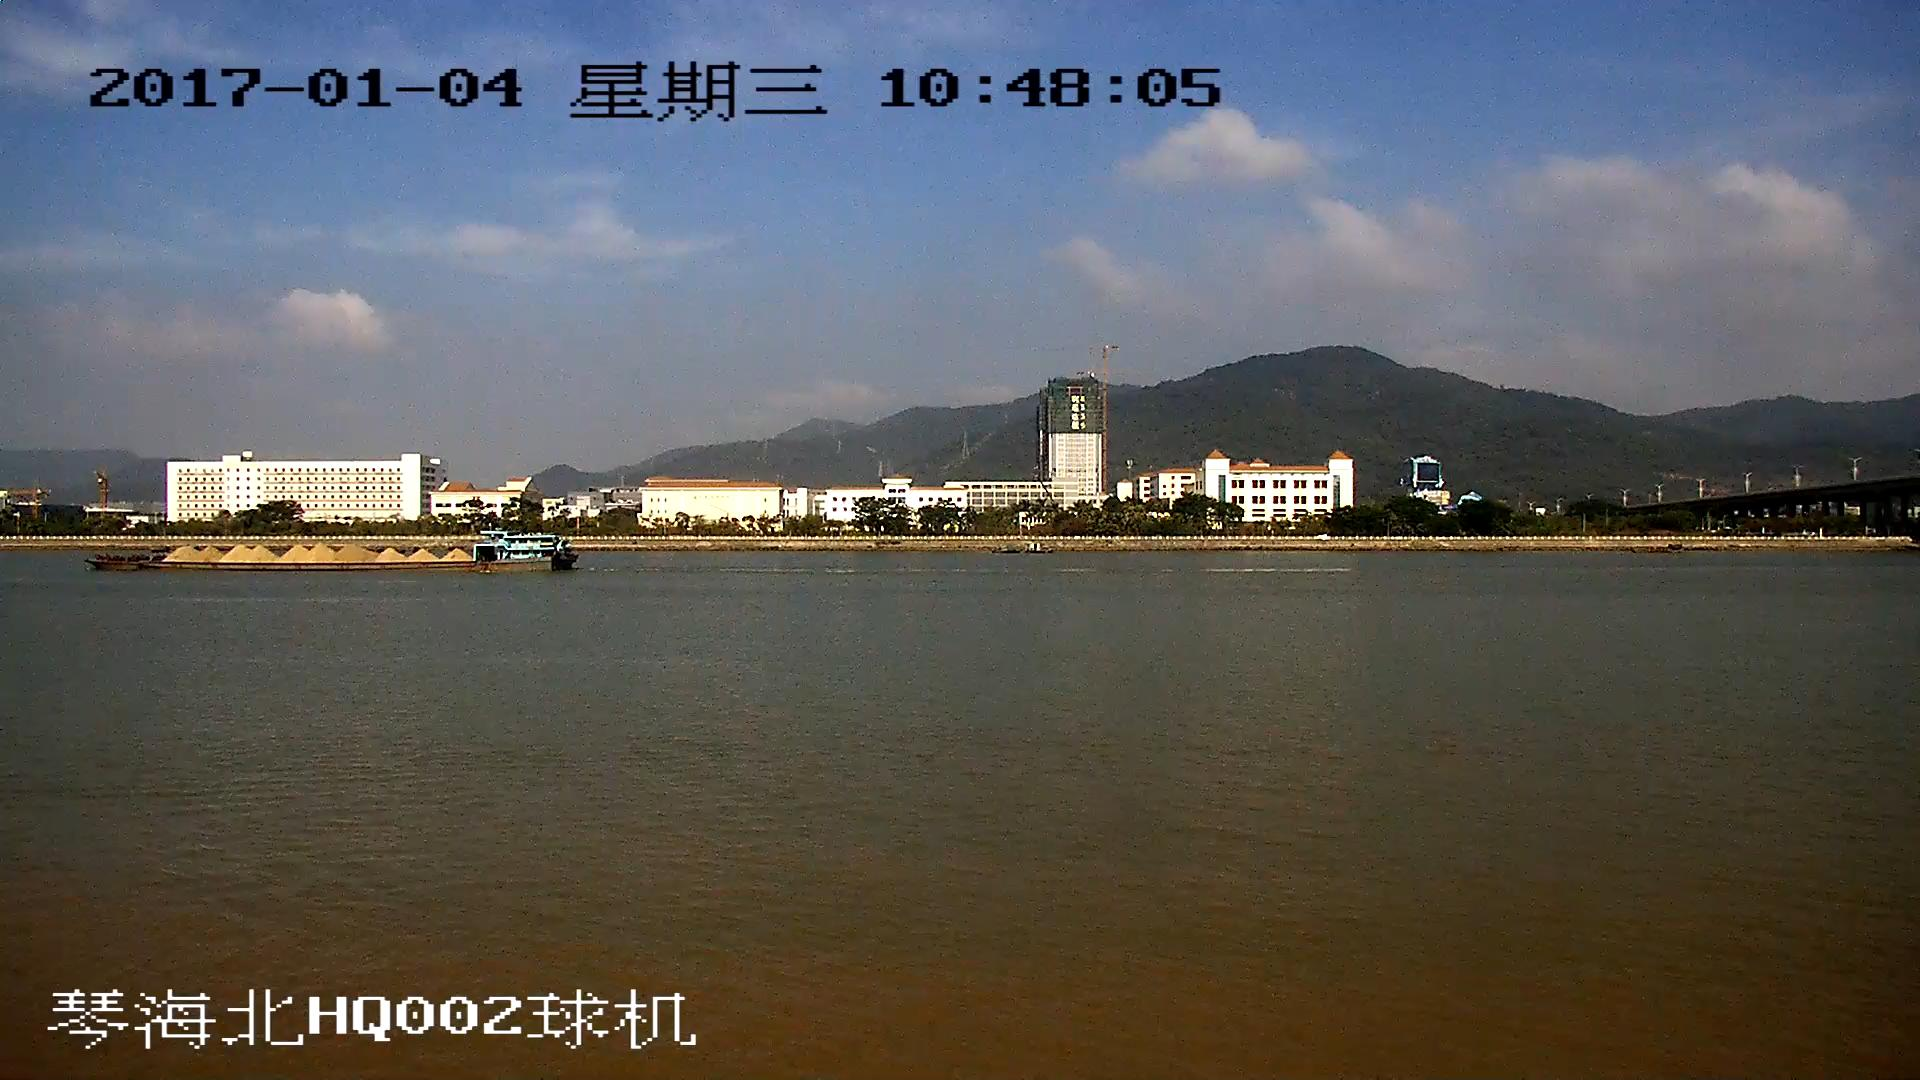ore carrier: (93, 530, 573, 575)
